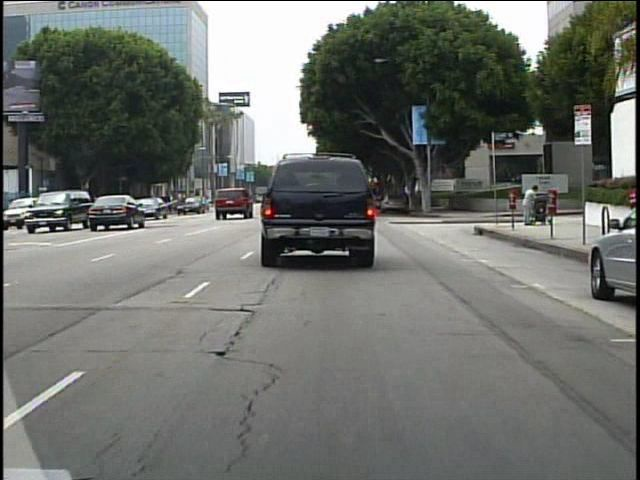person: (519, 179, 540, 230)
